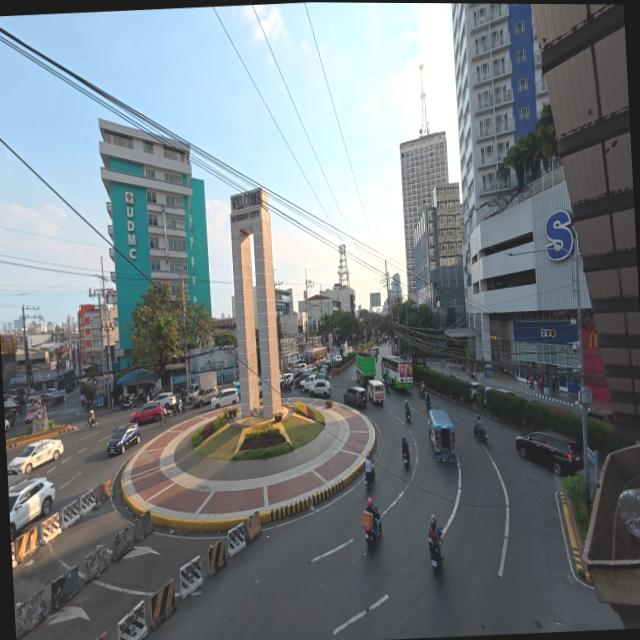car: (5, 437, 64, 475), (108, 425, 144, 458), (128, 403, 166, 428), (210, 386, 240, 409)
